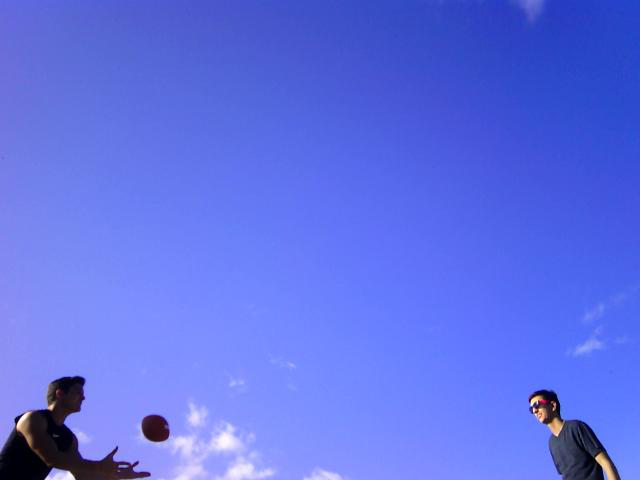football: (136, 415, 173, 444)
